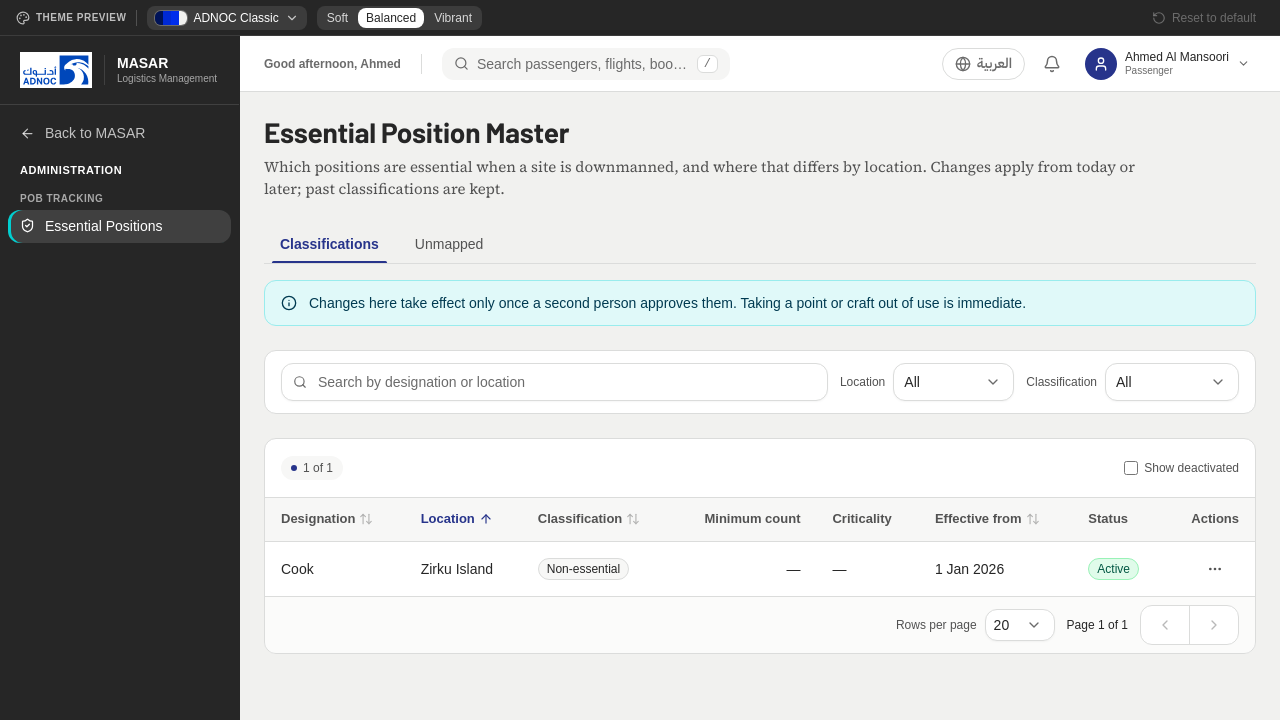
Scenario: SPEC-10-5.3 POB masters on the web: every change goes to a second person › BRD-B.3.7-09 a classification’s timeline keeps what was in force
This screenshot has width=1280, height=720.
Expected: the table named "Essential Position Master" is shown, [265,498,1255,596]
What coordinates should you click on to do the following:
click the button named "Actions for Cook · Zirku Island"
I would click on:
 (1215, 569)
Its box is [1191,550,1239,588].
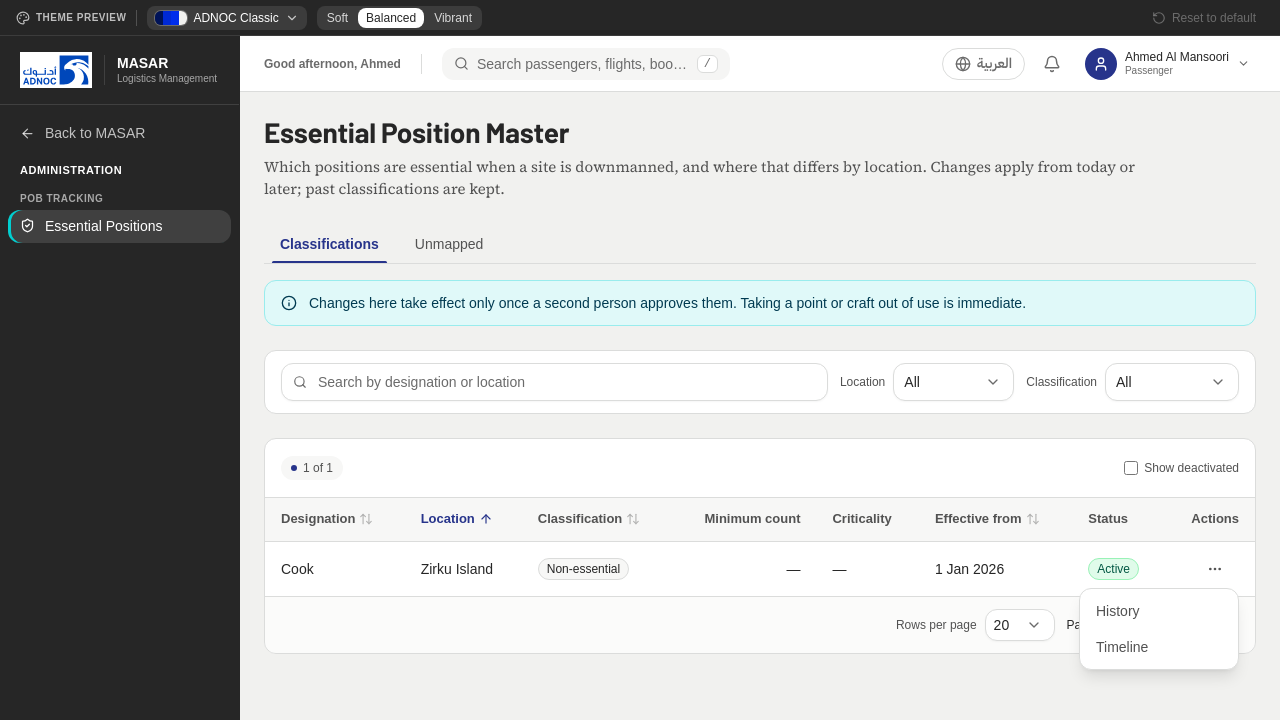
What coordinates should you click on to do the following:
click the menu item "Timeline"
I would click on:
 (1122, 647)
Its box is [1096,639,1148,655].
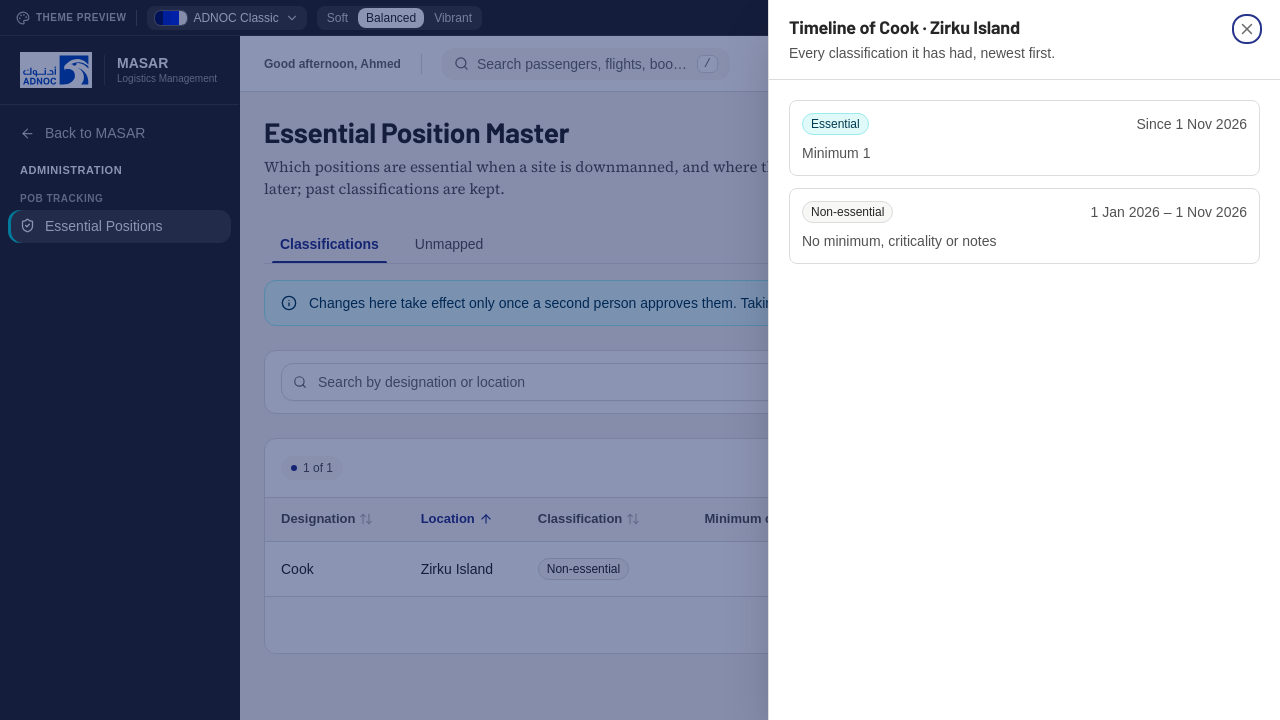
Expected: the text "Since 1 Nov 2026" is shown, [1136,114,1247,134]
Expected: the text "1 Jan 2026 – 1 Nov 2026" is shown, [1090,202,1247,222]
Expected: the text "Minimum 1" is shown, [802,144,870,160]
